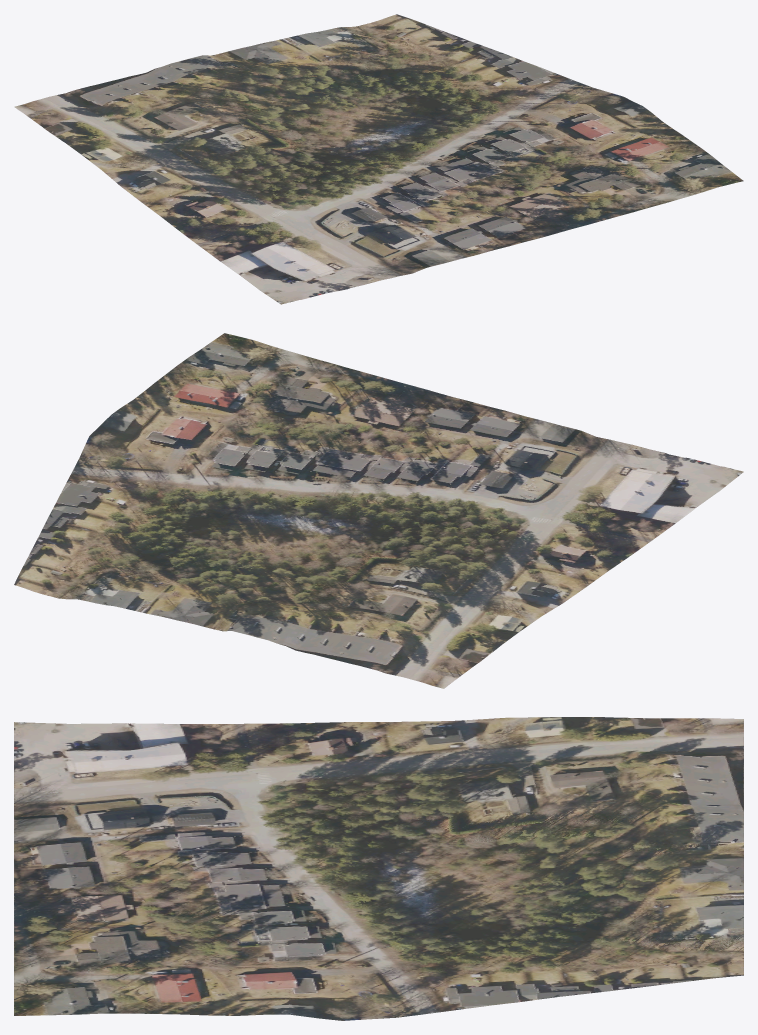
The model's file is CM_Terrain_24491278_6821432.fbx.
3 renders of one model, top to bottom at view 1: azimuth 30°, elevation 25°; view 2: azimuth 150°, elevation 25°; view 3: azimuth 270°, elevation 25°, orthographic. The views are drawn at different scales.
Visible parts, largest first — view 1: CM_Terrain_24491278_6821432_LOD0; view 2: CM_Terrain_24491278_6821432_LOD0; view 3: CM_Terrain_24491278_6821432_LOD0.
Boxes of the visible parts, left/top/right/bottom form: CM_Terrain_24491278_6821432_LOD0: left=14, top=14, right=743, bottom=304; CM_Terrain_24491278_6821432_LOD0: left=14, top=333, right=743, bottom=688; CM_Terrain_24491278_6821432_LOD0: left=14, top=717, right=743, bottom=1020.
Size of what is drawn, in the model's own units: 205 by 6.82 by 205.
